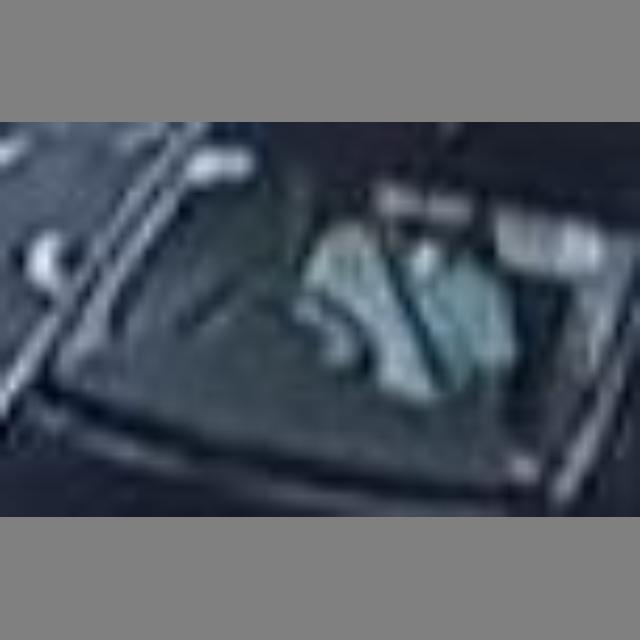pakai: (312, 189, 505, 450)
